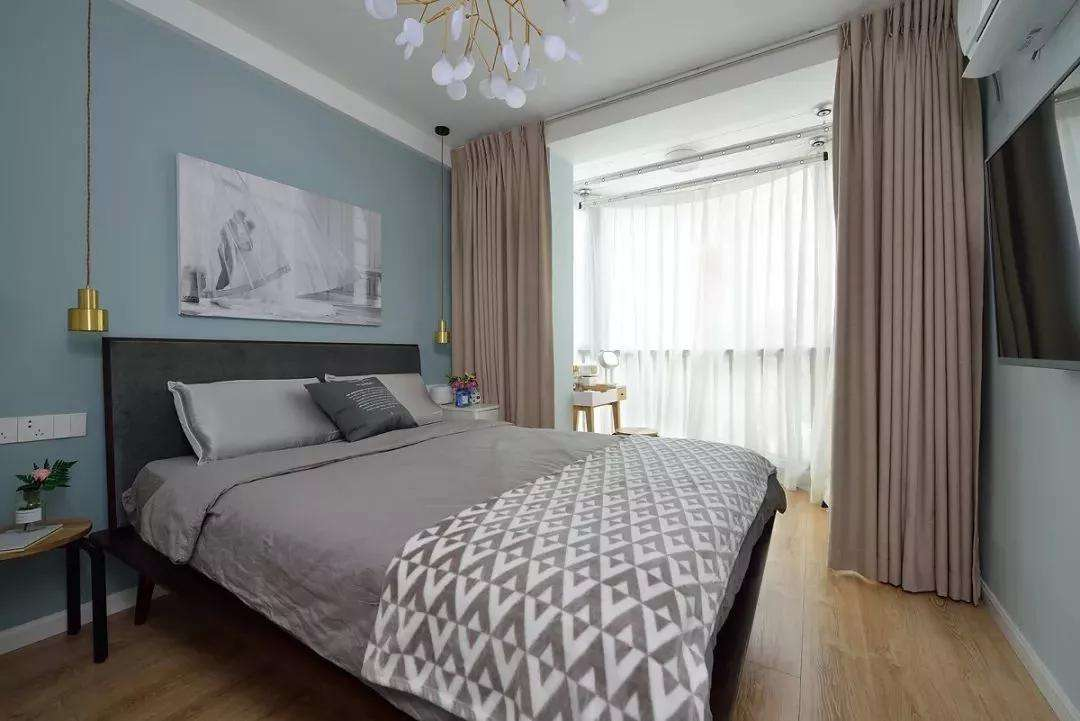床: (132, 407, 793, 711)
枕头: (164, 369, 443, 460)
灯: (369, 1, 595, 113), (65, 3, 113, 343), (430, 122, 455, 351)
